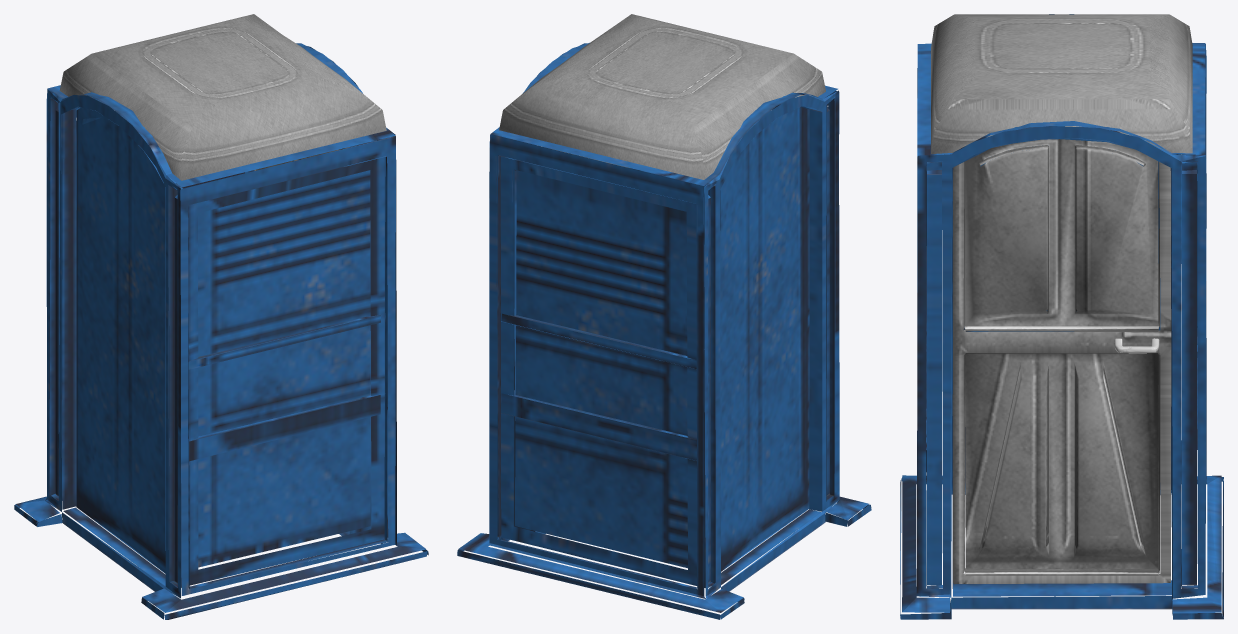
File: toilet.fbx
The picture shows the model from 3 angles, left to right: view 1: azimuth 30°, elevation 25°; view 2: azimuth 150°, elevation 25°; view 3: azimuth 270°, elevation 25°; orthographic projection. The views are drawn at different scales.
Parts seen in each view (by area): view 1: Toilet; view 2: Toilet; view 3: Toilet.
Part boxes in pixels (<box>): Toilet: <box>14,14,428,619</box>; Toilet: <box>457,14,871,619</box>; Toilet: <box>900,14,1223,619</box>.
Size of the model in its own units: 79.24 by 135 by 78.26.
1 material, 1 textured.
